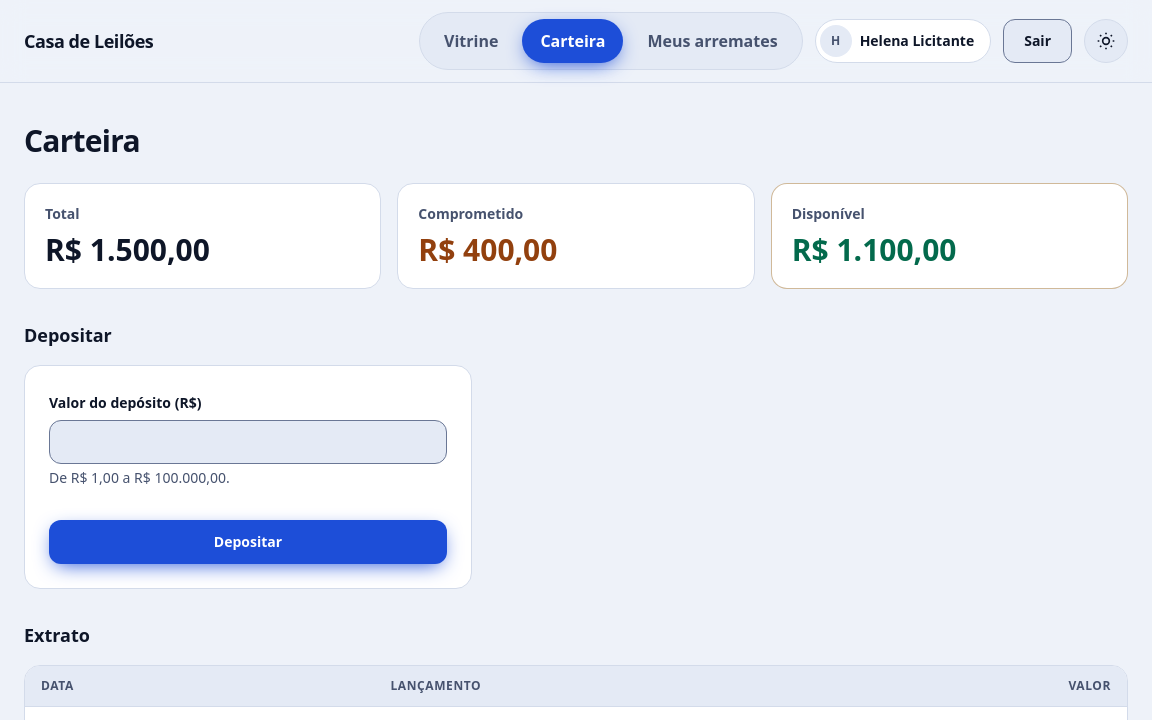
/carteira › PAPEL_NAO_PERMITIDO do servidor usa a mensagem do mapa
Type "1" into the field labelled "Valor do depósito (R$)" at (248, 442), box x1=49 y1=420 x2=447 y2=464
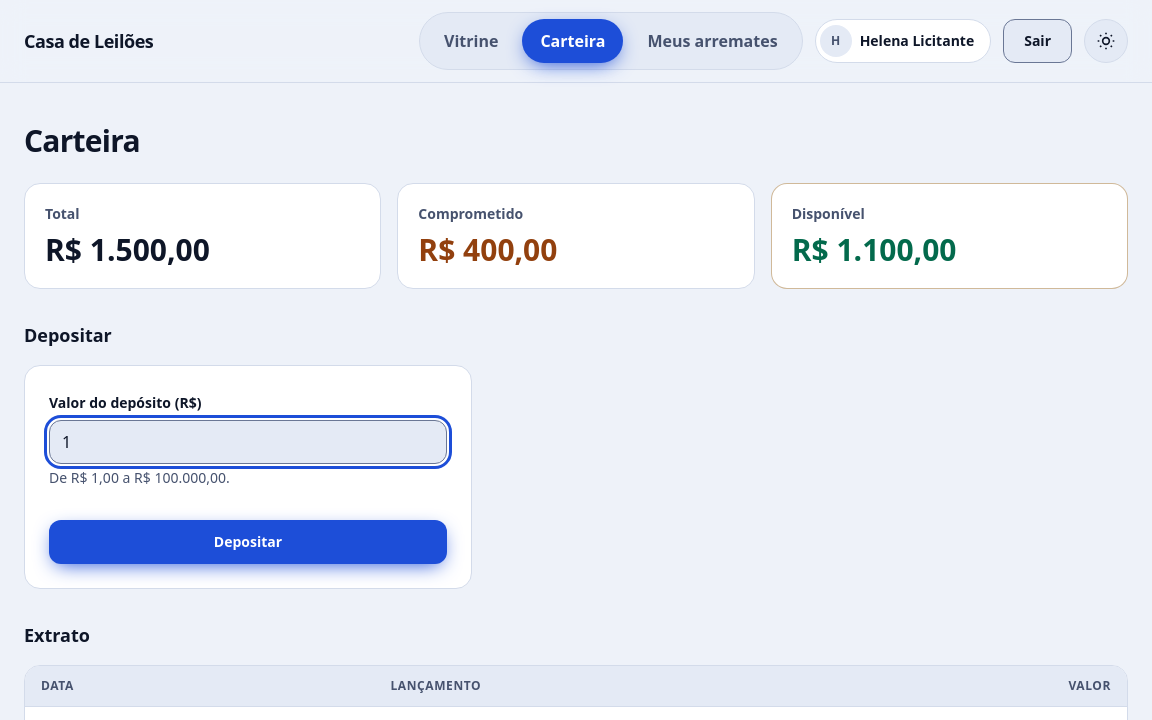
Click the button "Depositar" at (248, 542), box x1=49 y1=520 x2=447 y2=564
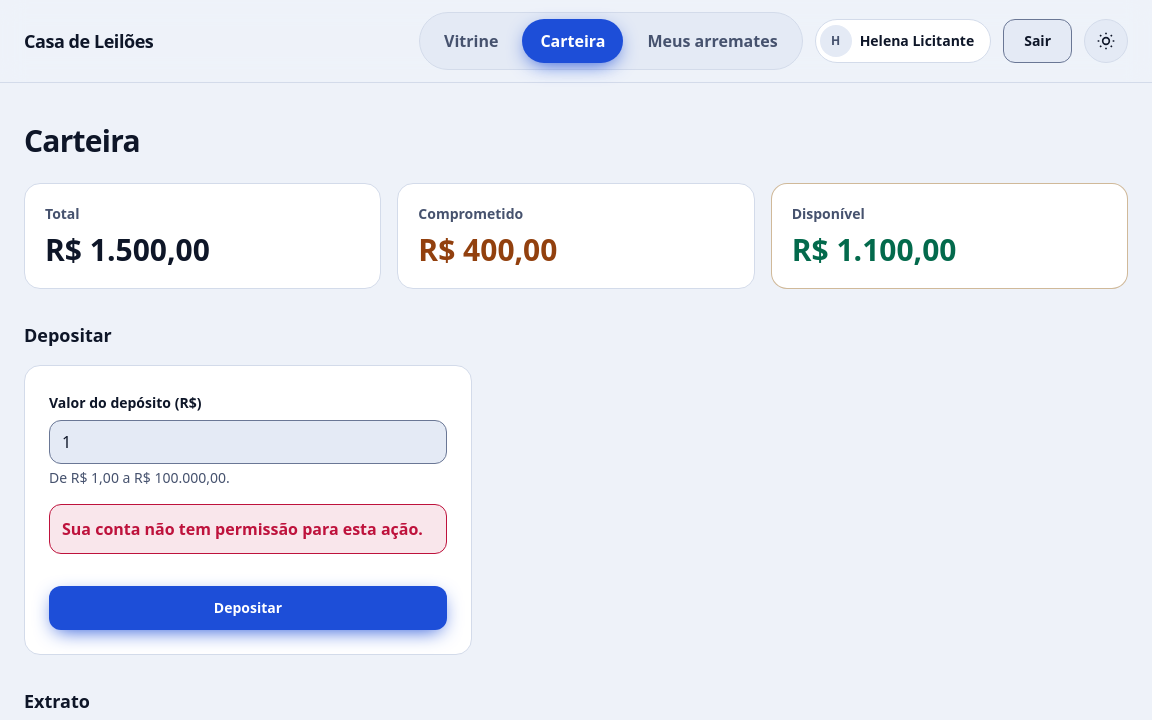
Now the message reads "Sua conta não tem permissão para esta ação.", box x1=62 y1=518 x2=423 y2=540
